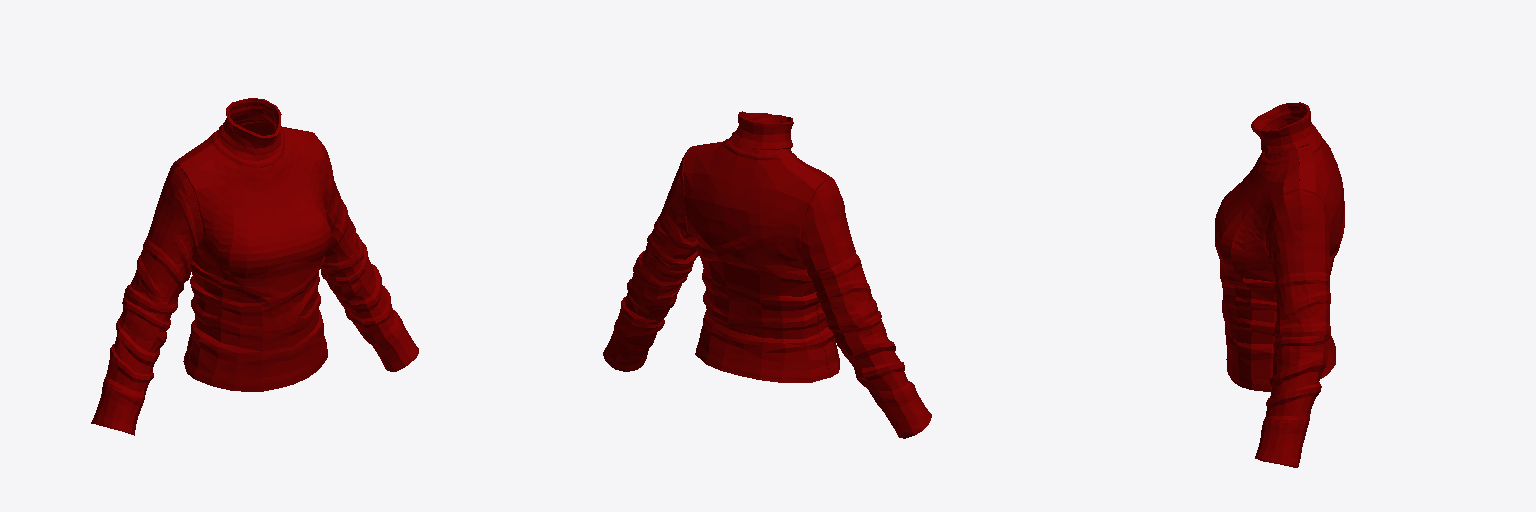
The model's file is Shirt-obj.obj.
3 views of the same model, side by side, from view 1: azimuth 30°, elevation 25°; view 2: azimuth 150°, elevation 25°; view 3: azimuth 270°, elevation 25° (orthographic).
Visible parts, largest first — view 1: Woolen_shirt; view 2: Woolen_shirt; view 3: Woolen_shirt.
Boxes of the visible parts, <box> form: Woolen_shirt: <box>91,98,418,435</box>; Woolen_shirt: <box>603,111,931,438</box>; Woolen_shirt: <box>1215,102,1344,467</box>.
Size of the model in its own units: 95 by 82.16 by 33.45.